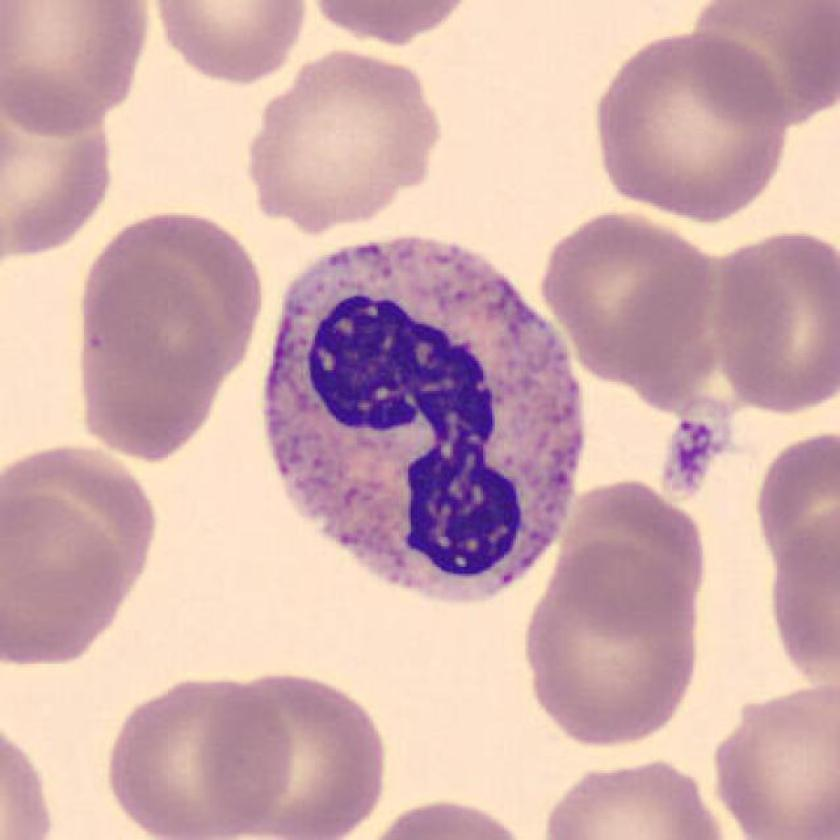neutrophil: (269, 238, 584, 604)
